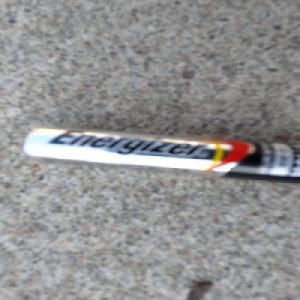Battery: (20, 123, 300, 183)
